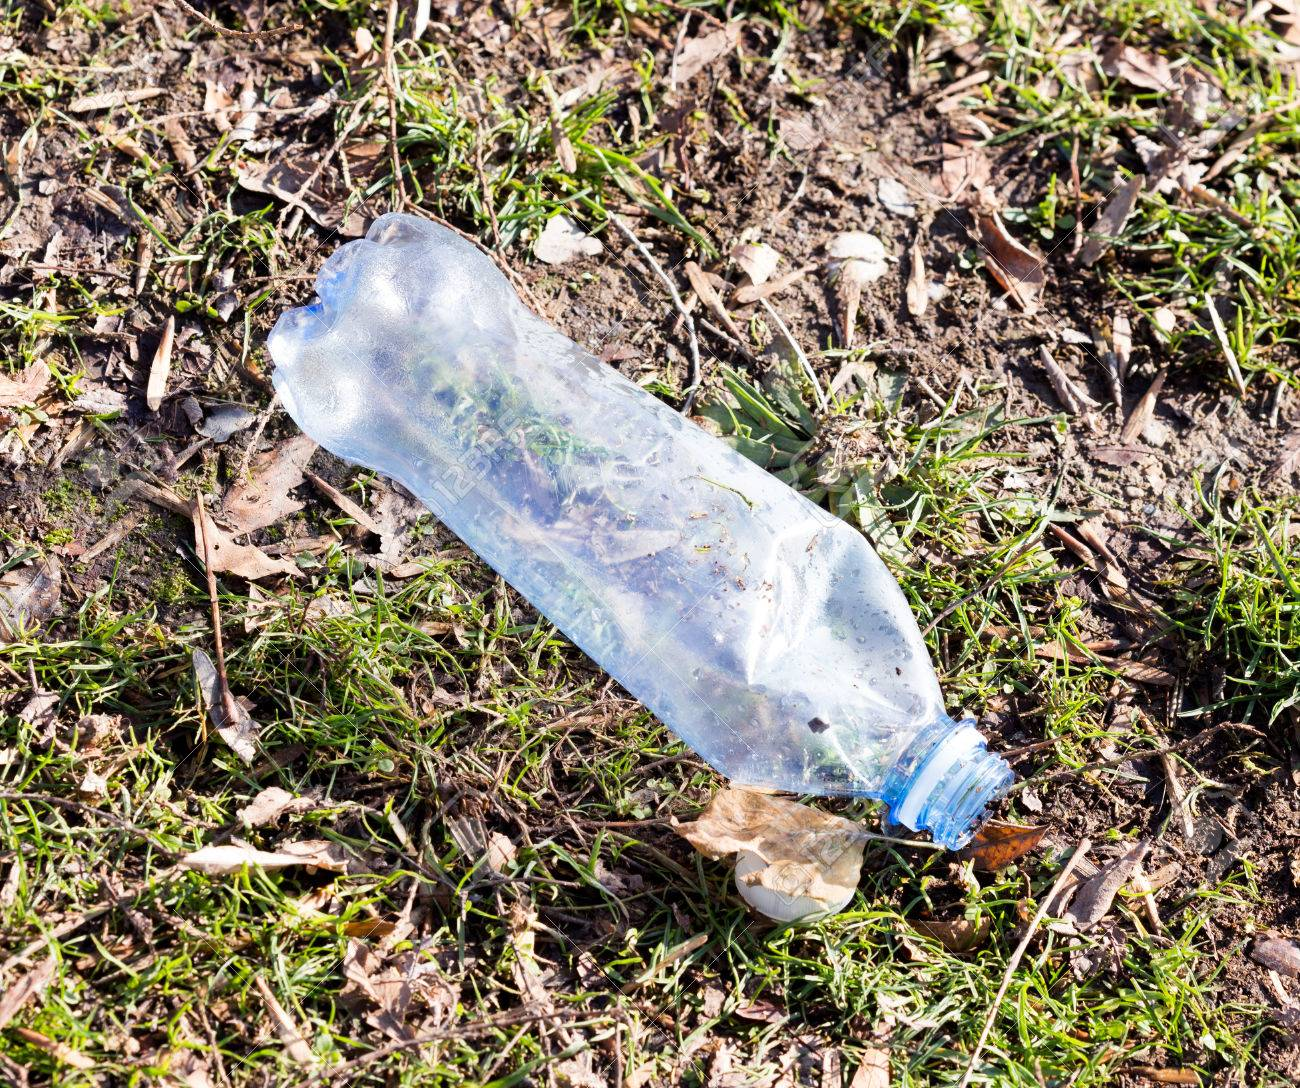bottle: (265, 206, 1015, 846)
